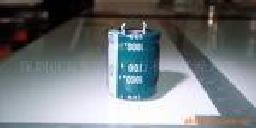Electrolytic-Capacitor: (103, 20, 166, 104)
